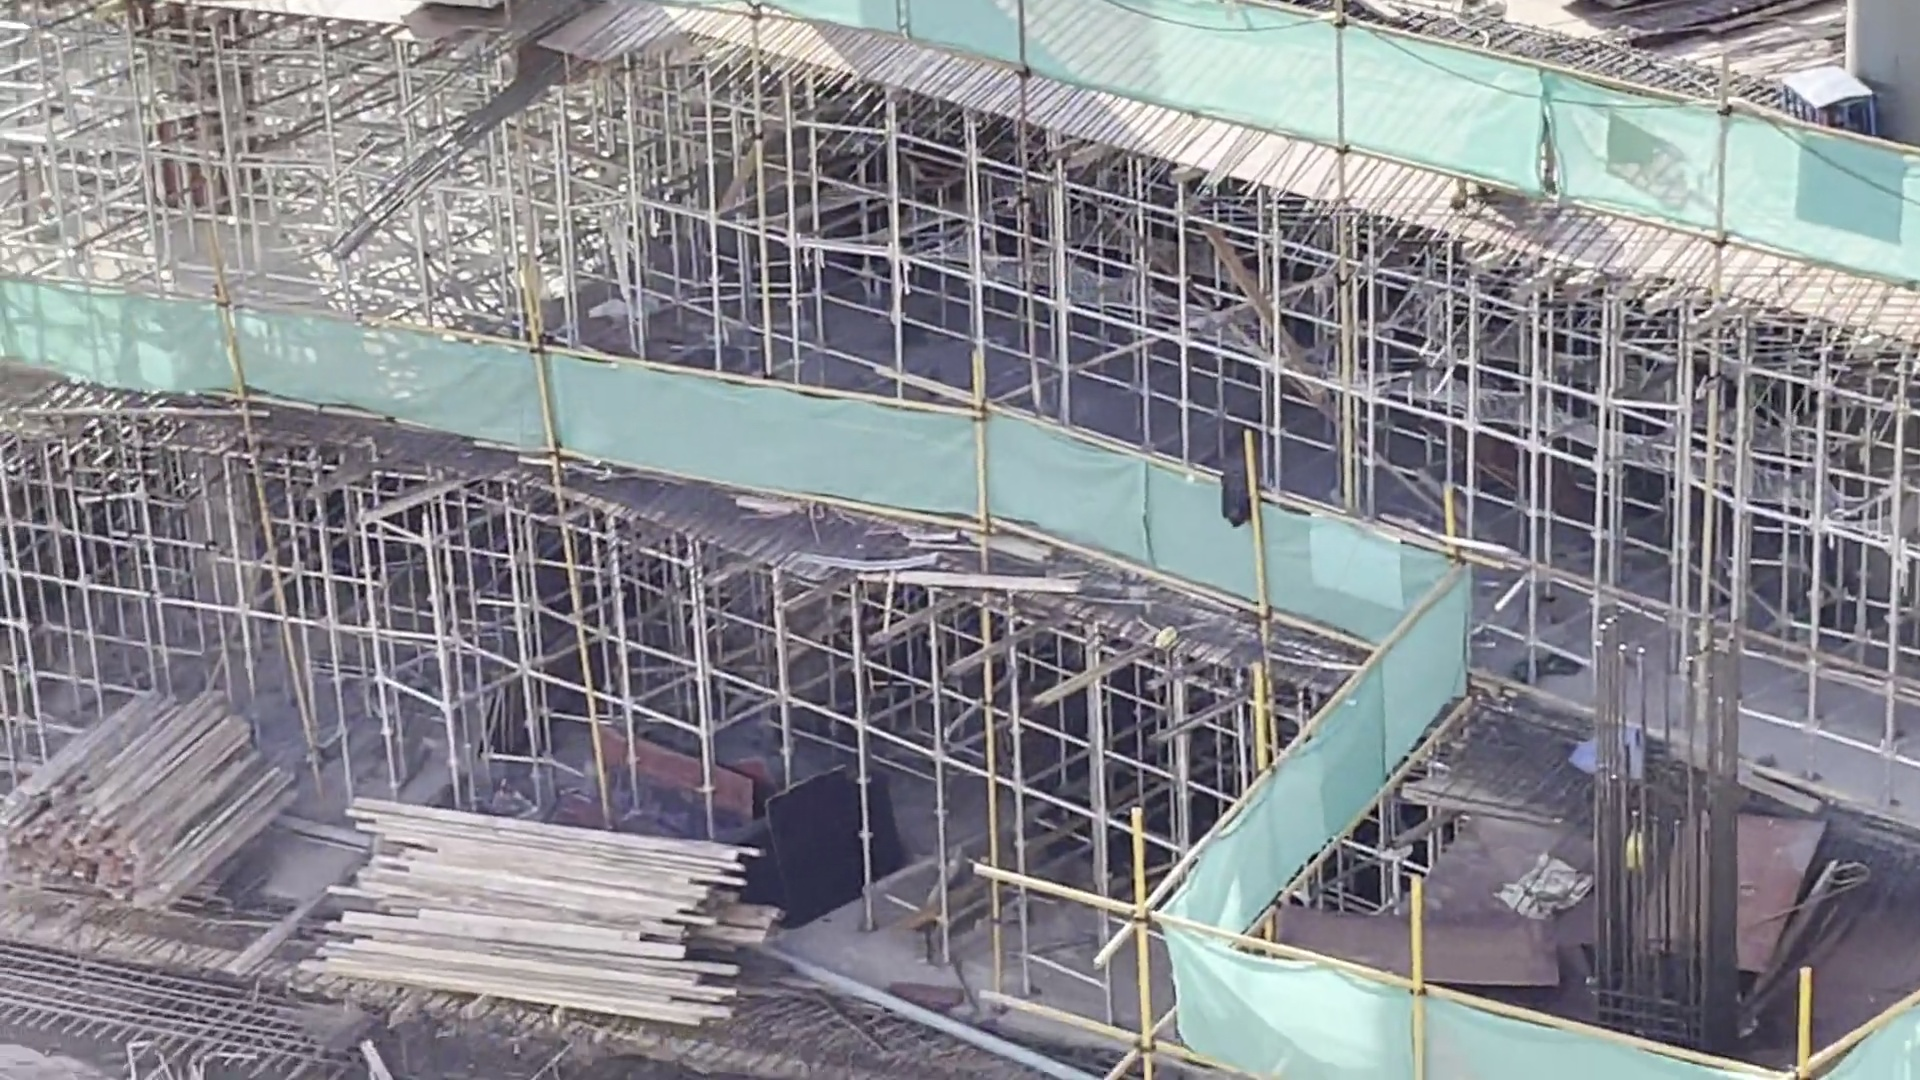wood: (301, 804, 774, 1030), (29, 679, 274, 906)
